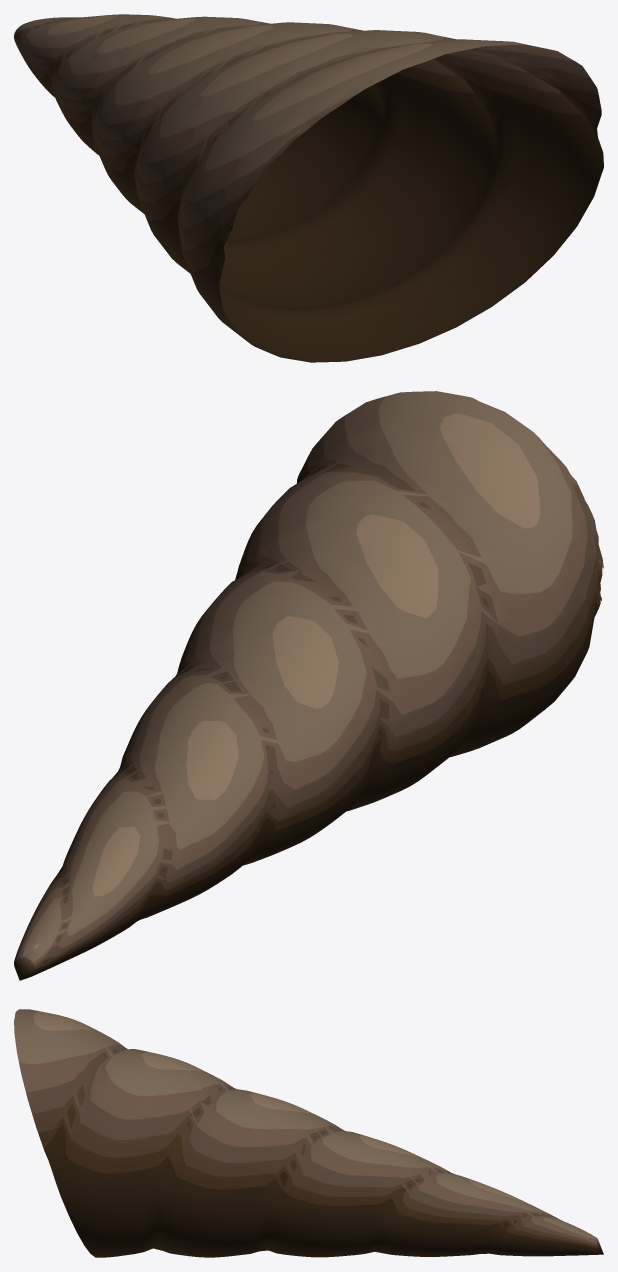
File: coral_shell_top.glb
3 renders of one model, top to bottom at view 1: azimuth 30°, elevation 25°; view 2: azimuth 150°, elevation 25°; view 3: azimuth 270°, elevation 25°, orthographic. The views are drawn at different scales.
Visible parts, largest first — view 1: coral_shell_top; view 2: coral_shell_top; view 3: coral_shell_top.
Part boxes in pixels (<box>): coral_shell_top: <box>14,14,603,362</box>; coral_shell_top: <box>14,391,603,980</box>; coral_shell_top: <box>14,1009,603,1257</box>.
Size of the model in its own units: 12.02 by 10.6 by 25.81.
